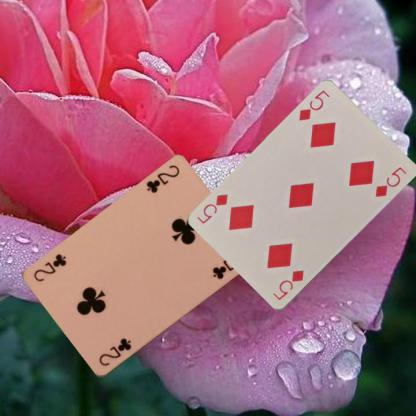2c: (143, 162, 182, 196), (96, 336, 133, 368)
5d: (270, 268, 305, 302), (296, 88, 331, 122)
